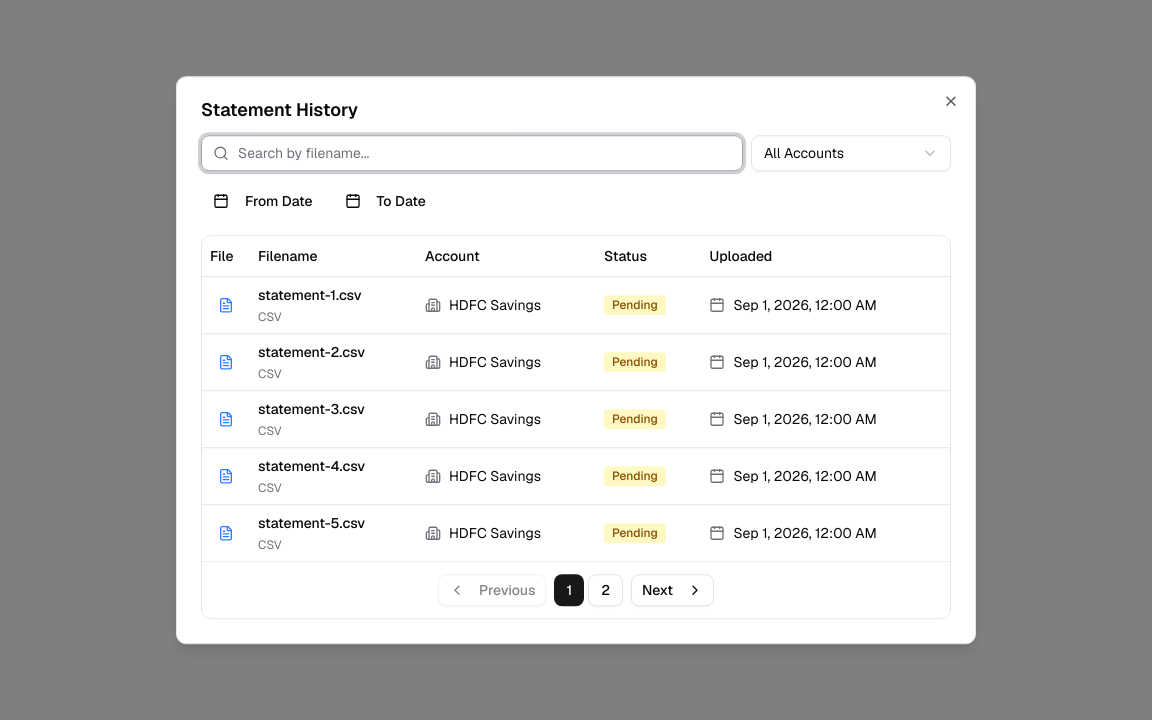
ViewStatementsModal › pages through the uploads
expect the text "statement-1.csv" is shown: met, box [258,286,362,304]
expect the text "statement-6.csv" is not shown: met
Click the button "2": point(606, 590) [588,574,623,606]
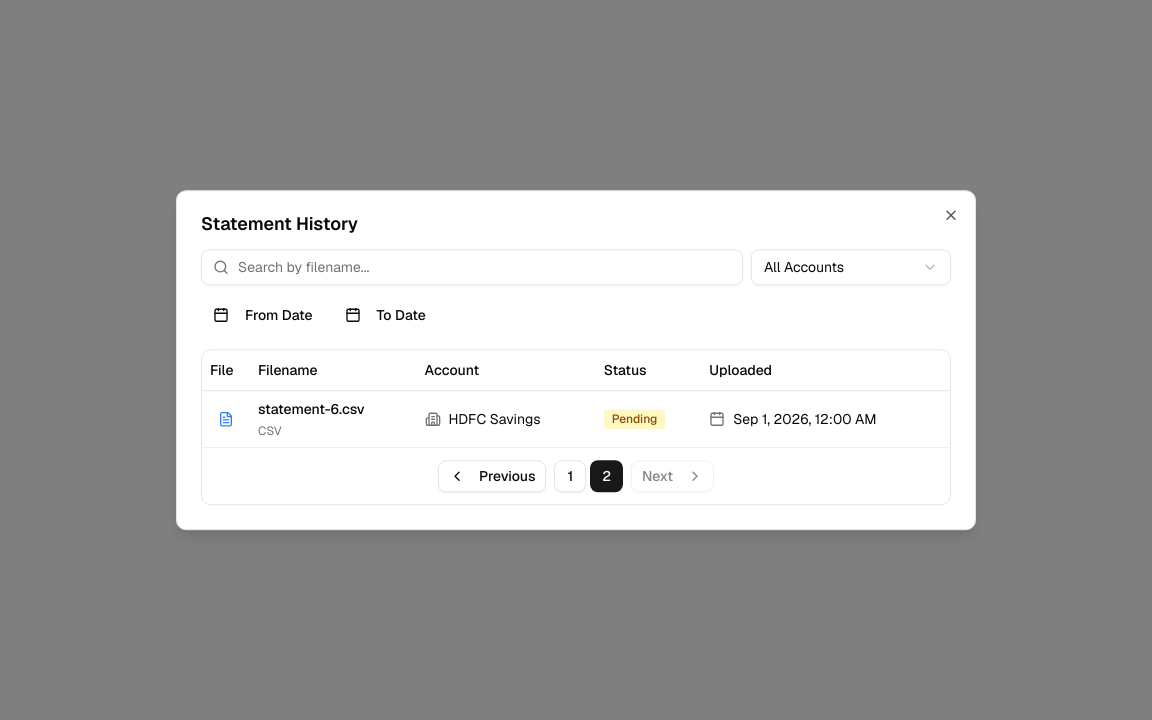
expect the text "statement-6.csv" is shown: met, box [258,400,365,418]
